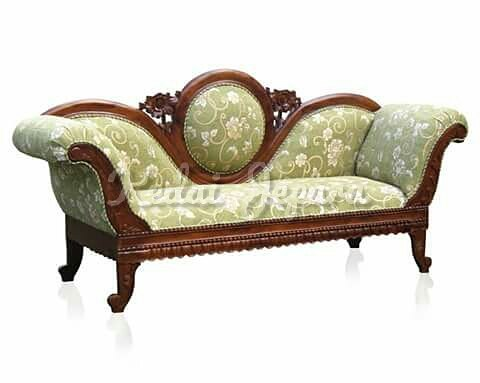Carving Chair: (30, 97, 441, 283)
